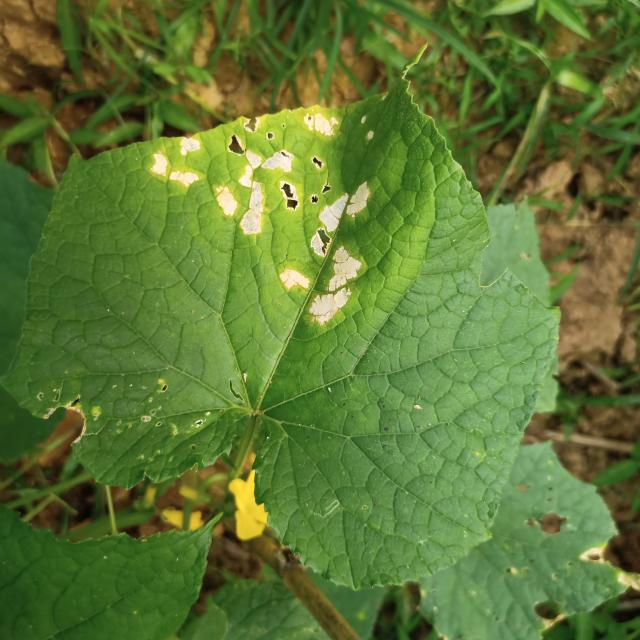disease_cucumber: (149, 102, 377, 330)
